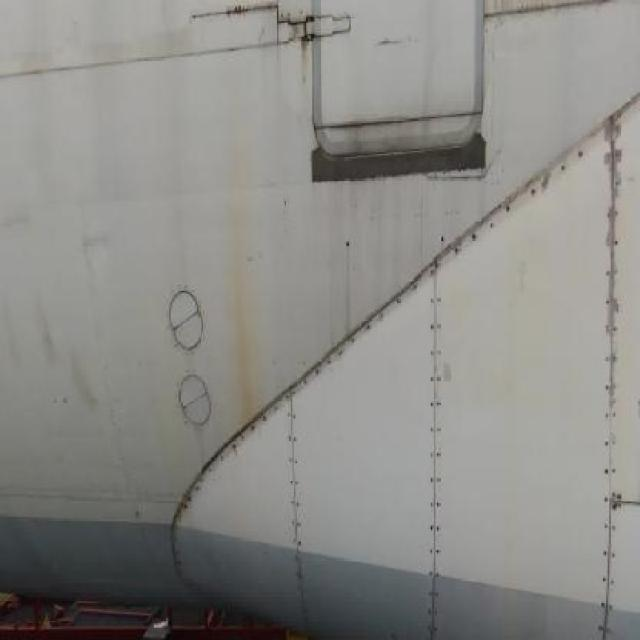Missing-Rivet: (592, 106, 628, 622), (452, 147, 590, 281), (418, 243, 452, 614), (316, 280, 418, 386), (280, 378, 312, 600), (218, 403, 280, 480)
Rust: (225, 175, 268, 440), (285, 10, 338, 92)
Scartch: (0, 282, 125, 448), (1, 187, 124, 278)
